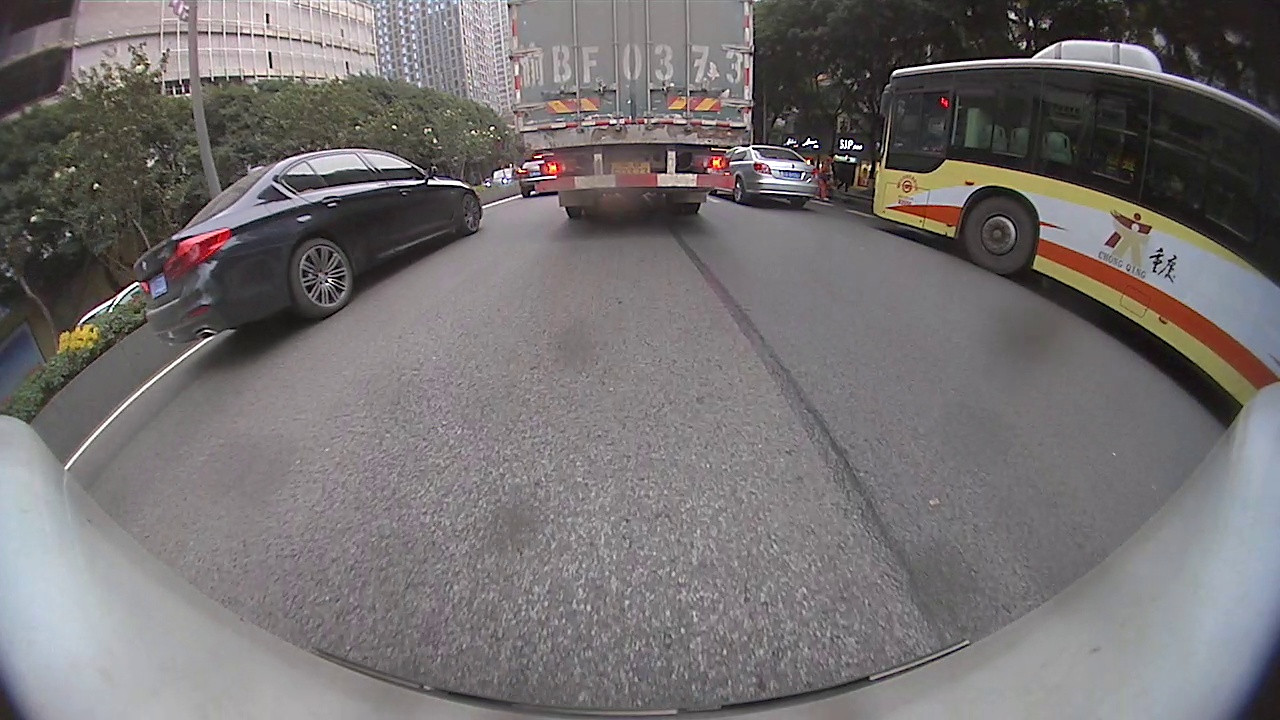bus: (871, 40, 1277, 404)
car: (134, 145, 485, 345), (714, 147, 821, 209)
front: (962, 193, 1040, 275), (459, 191, 483, 237)
rear: (288, 237, 356, 320), (732, 179, 746, 204)
truck: (507, 2, 754, 216)
